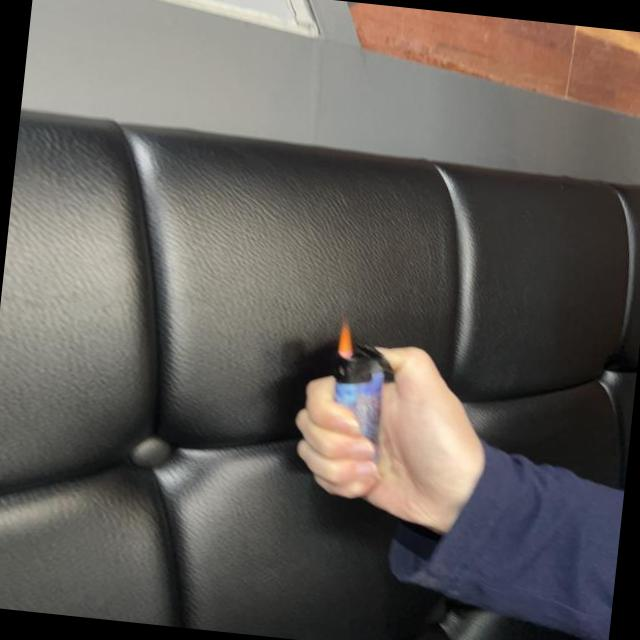Fire: (338, 318, 358, 359)
